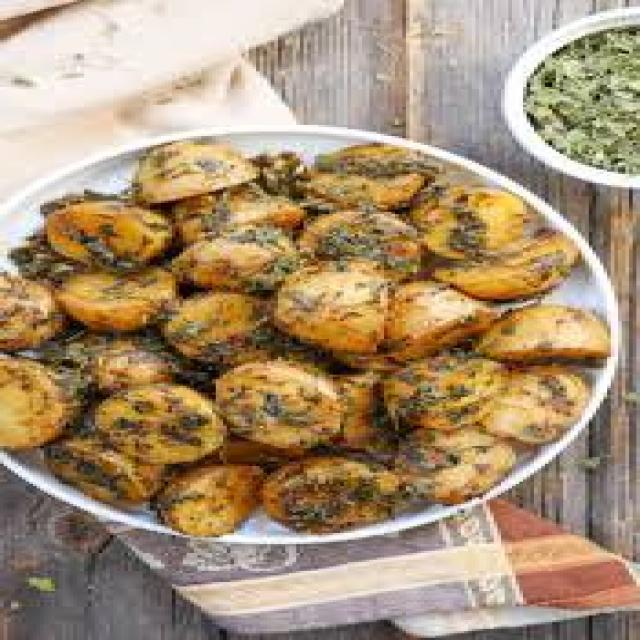Aloo Methi: (2, 142, 610, 540)
